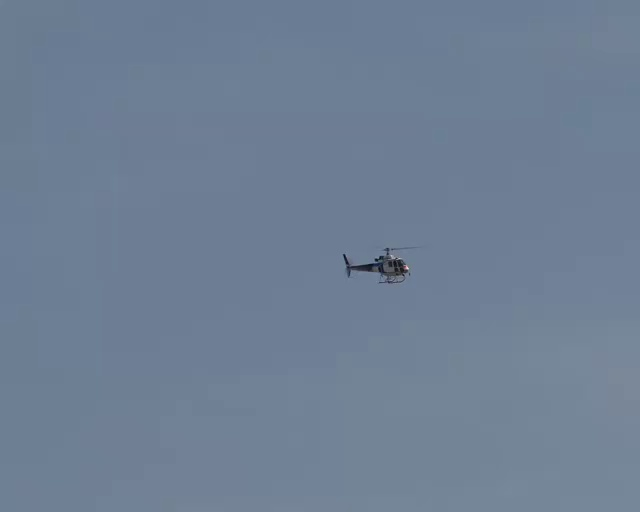HELICOPTER: (342, 244, 422, 285)
